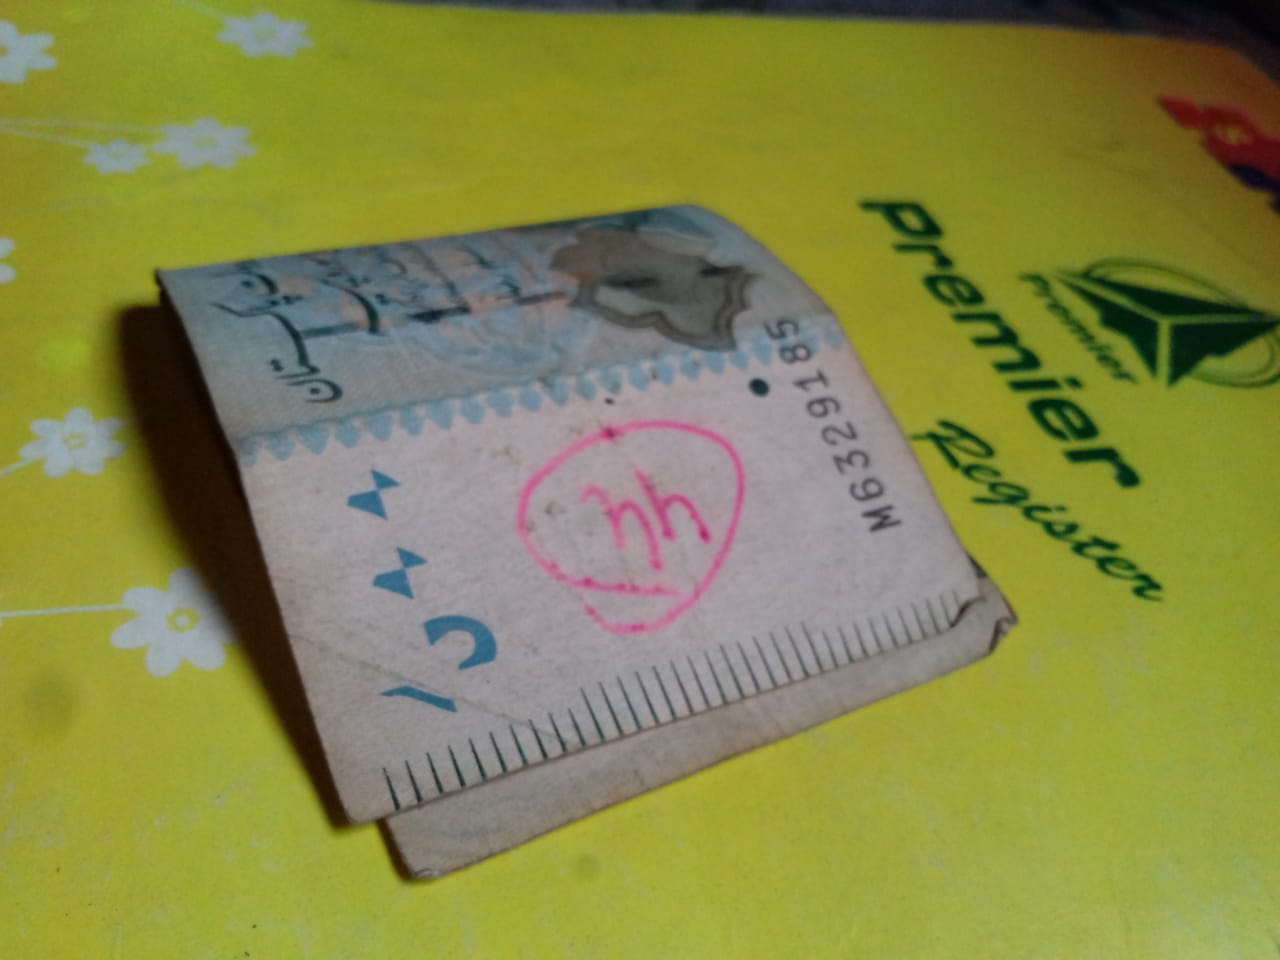500 rupee: (154, 192, 995, 811)
